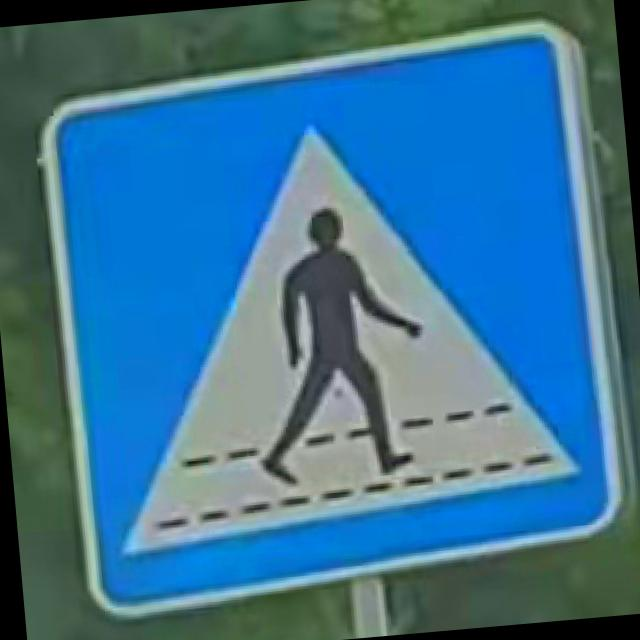zebracrossing_sign: (25, 9, 637, 621)
